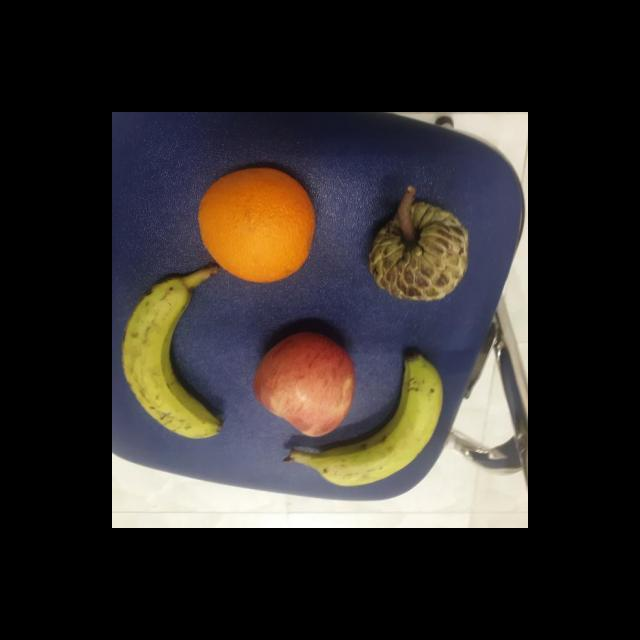Sakya fruit: (363, 202, 475, 304)
apple: (246, 333, 362, 438)
banana: (117, 264, 226, 441)
orange: (192, 166, 322, 284)
